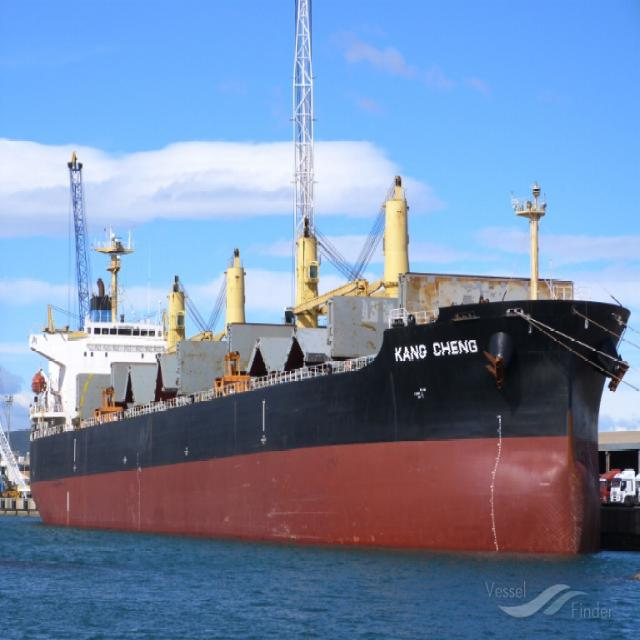OCR: (392, 337, 482, 366)
